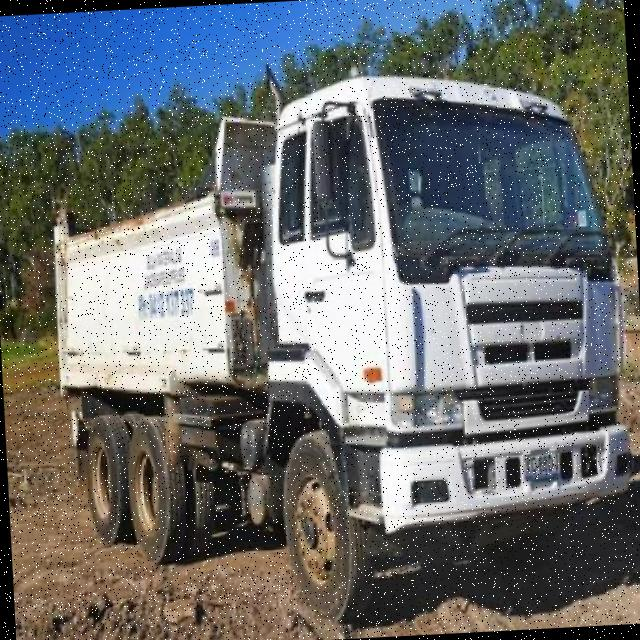Dump Truck: (40, 47, 640, 637)
